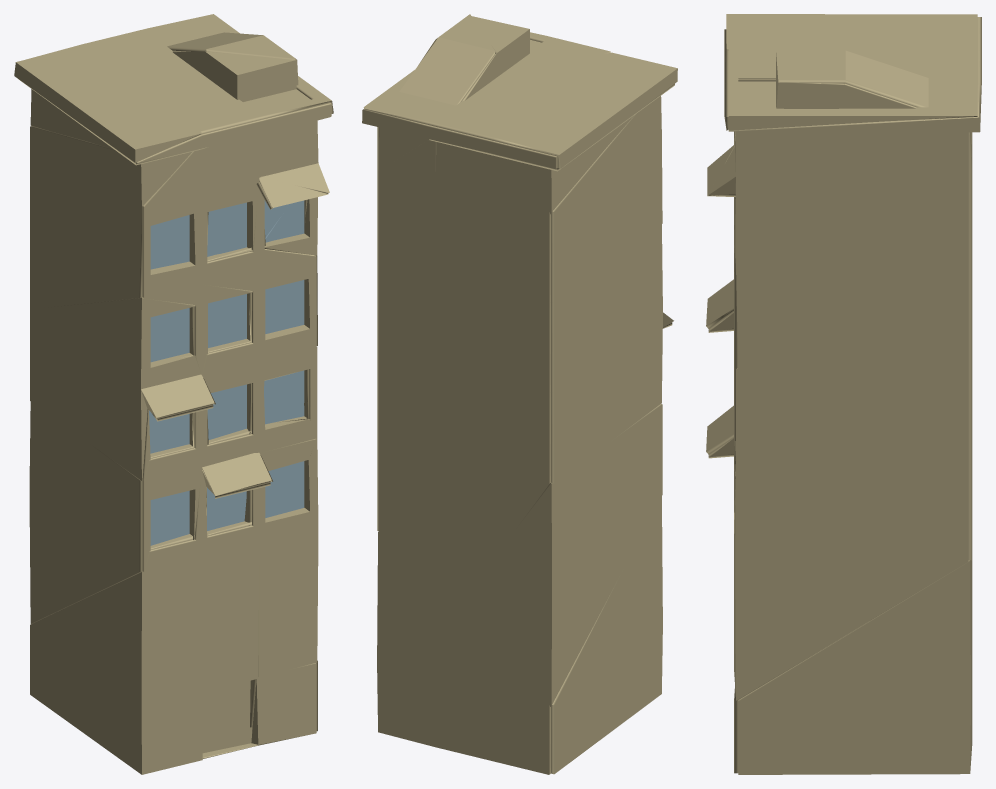
The model's file is building4.fbx.
3 renders of one model, left to right at view 1: azimuth 30°, elevation 25°; view 2: azimuth 150°, elevation 25°; view 3: azimuth 270°, elevation 25°, orthographic. The views are drawn at different scales.
Parts seen in each view (by area): view 1: building4_shatter10, building4_shatter12, building4_shatter38, building4_shatter29, building4_shatter14, building4_shatter6, building4_shatter1, building4_shatter23, building4_shatter26, building4_shatter20, building4_shatter15, building4_shatter49 (+25 smaller); view 2: building4_shatter11, building4_shatter38, building4_shatter7, building4_shatter24, building4_shatter10, building4_shatter12, building4_shatter2, building4_shatter29, building4_shatter14, building4_shatter20, building4_shatter49, building4_shatter47 (+7 smaller); view 3: building4_shatter18, building4_shatter6, building4_shatter7, building4_shatter28, building4_shatter37, building4_shatter14, building4_shatter32, building4_shatter20, building4_shatter16, building4_shatter47, building4_shatter21, building4 (+6 smaller).
Part boxes in pixels (x1,y1,x2,y2): building4_shatter10: (30, 545, 259, 774); building4_shatter12: (30, 297, 214, 480); building4_shatter38: (29, 401, 142, 624); building4_shatter29: (18, 79, 206, 297); building4_shatter14: (14, 44, 201, 162); building4_shatter6: (258, 438, 318, 677); building4_shatter1: (202, 181, 316, 452); building4_shatter23: (143, 135, 259, 357); building4_shatter26: (202, 663, 316, 758); building4_shatter20: (83, 32, 311, 134); building4_shatter15: (144, 409, 271, 572); building4_shatter49: (30, 218, 138, 309); building4_shatter11: (378, 289, 550, 560); building4_shatter38: (436, 404, 662, 760); building4_shatter7: (377, 532, 492, 747); building4_shatter24: (378, 185, 550, 442); building4_shatter10: (551, 496, 662, 774); building4_shatter12: (551, 225, 673, 483); building4_shatter2: (429, 115, 634, 289); building4_shatter29: (551, 84, 674, 302); building4_shatter14: (493, 52, 677, 168); building4_shatter20: (438, 33, 610, 136); building4_shatter49: (551, 223, 662, 392); building4_shatter47: (399, 14, 495, 105); building4_shatter18: (708, 131, 968, 369); building4_shatter6: (734, 465, 968, 700); building4_shatter7: (738, 560, 972, 774); building4_shatter28: (708, 368, 968, 525); building4_shatter37: (734, 176, 972, 440); building4_shatter14: (726, 14, 977, 49); building4_shatter32: (728, 78, 977, 130); building4_shatter20: (728, 46, 977, 106); building4_shatter16: (738, 51, 916, 108); building4_shatter47: (778, 50, 928, 107); building4_shatter21: (728, 50, 981, 175); building4: (738, 81, 775, 107).
Size of the model in its own units: 6.43 by 20.14 by 7.26.
